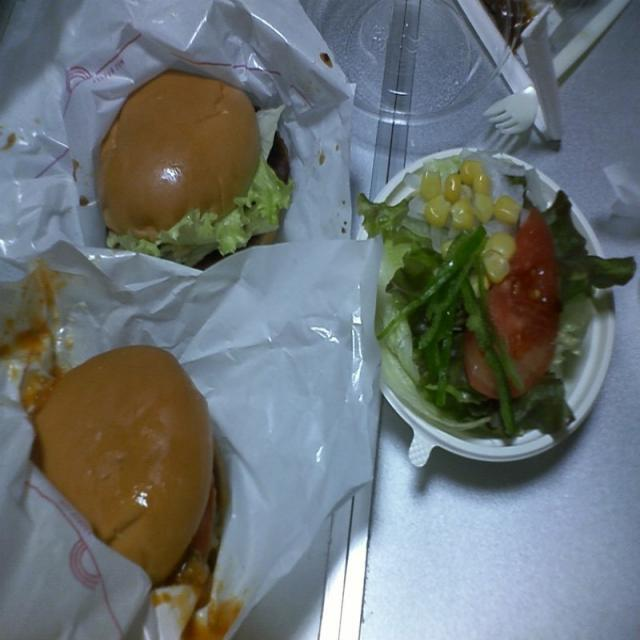Hamburger: (20, 331, 236, 604)
